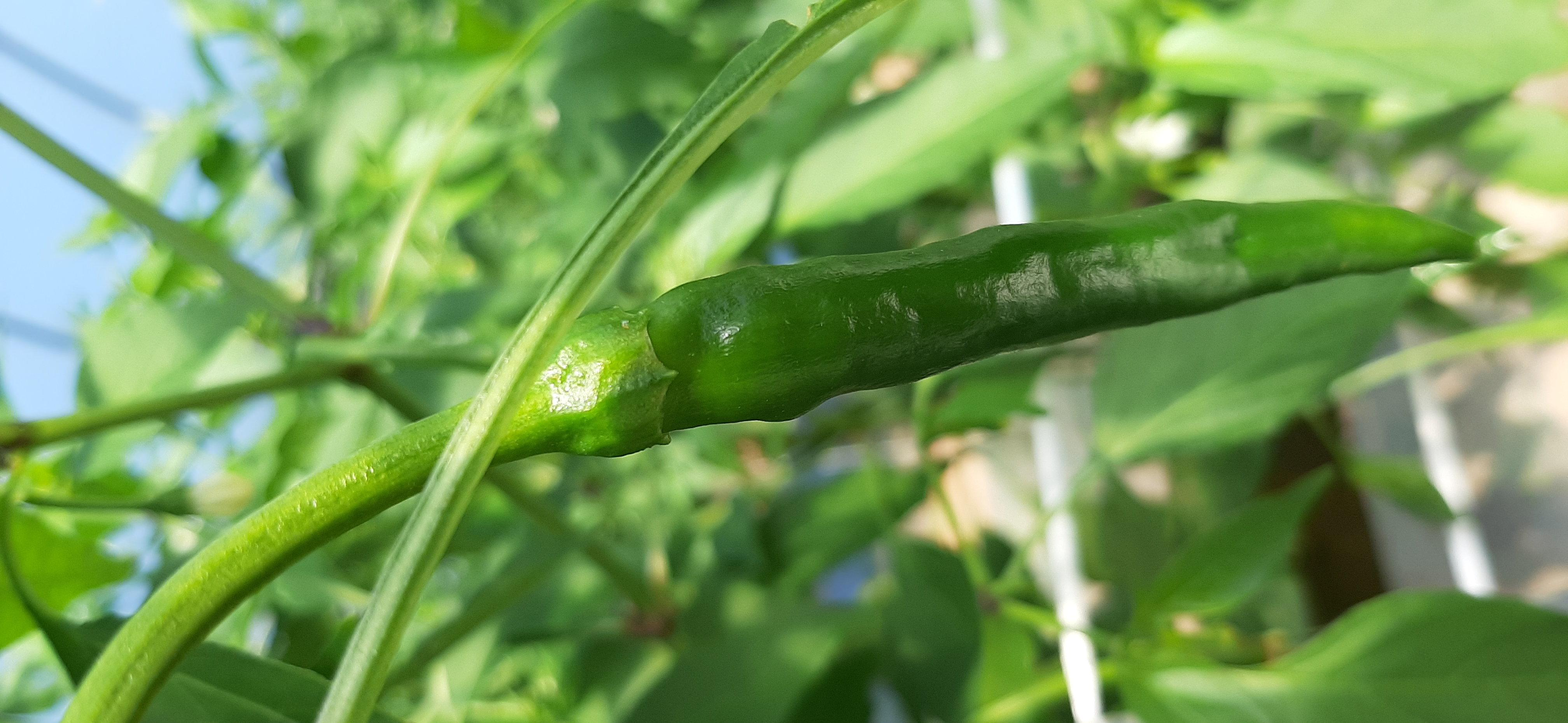Buah Cabai Sehat: (550, 192, 1482, 462)
